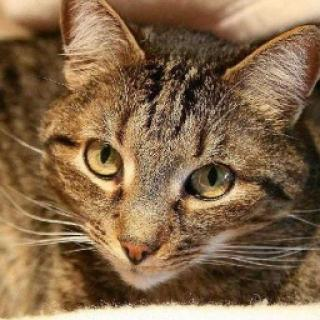cat: (39, 2, 319, 294)
nose: (110, 191, 172, 267)
